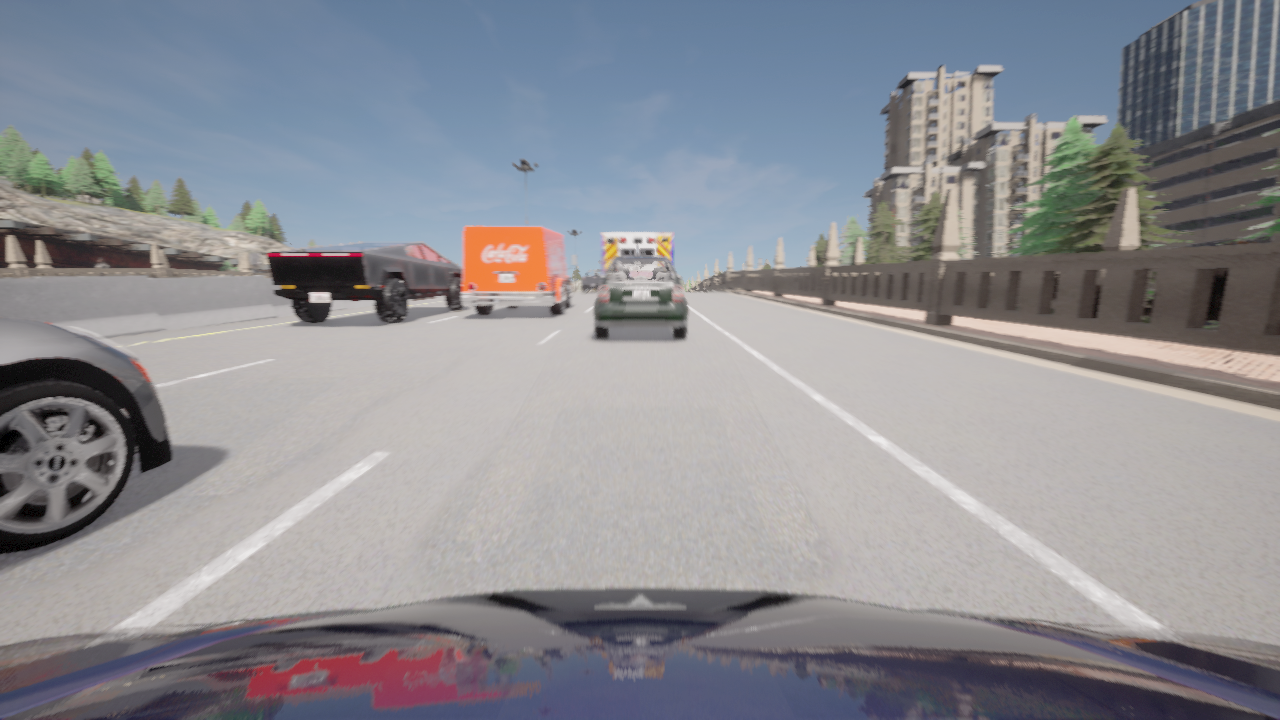cyclist: (0, 588, 1279, 719), (265, 242, 464, 323), (461, 226, 576, 315), (594, 256, 686, 339), (600, 233, 673, 275), (581, 270, 600, 292)
